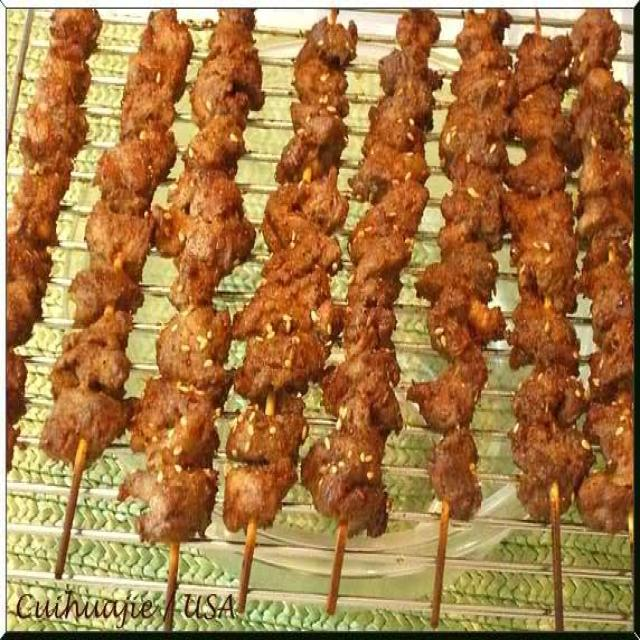烧串烤肉: (34, 24, 623, 551)
